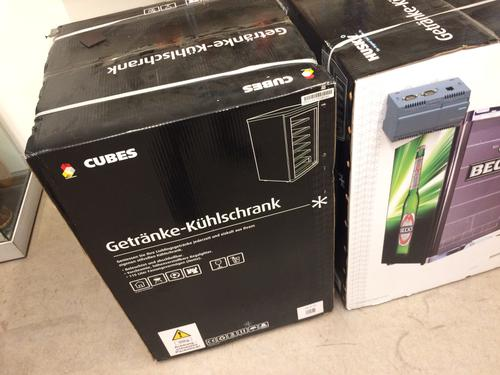iot2000: (381, 76, 471, 143)
